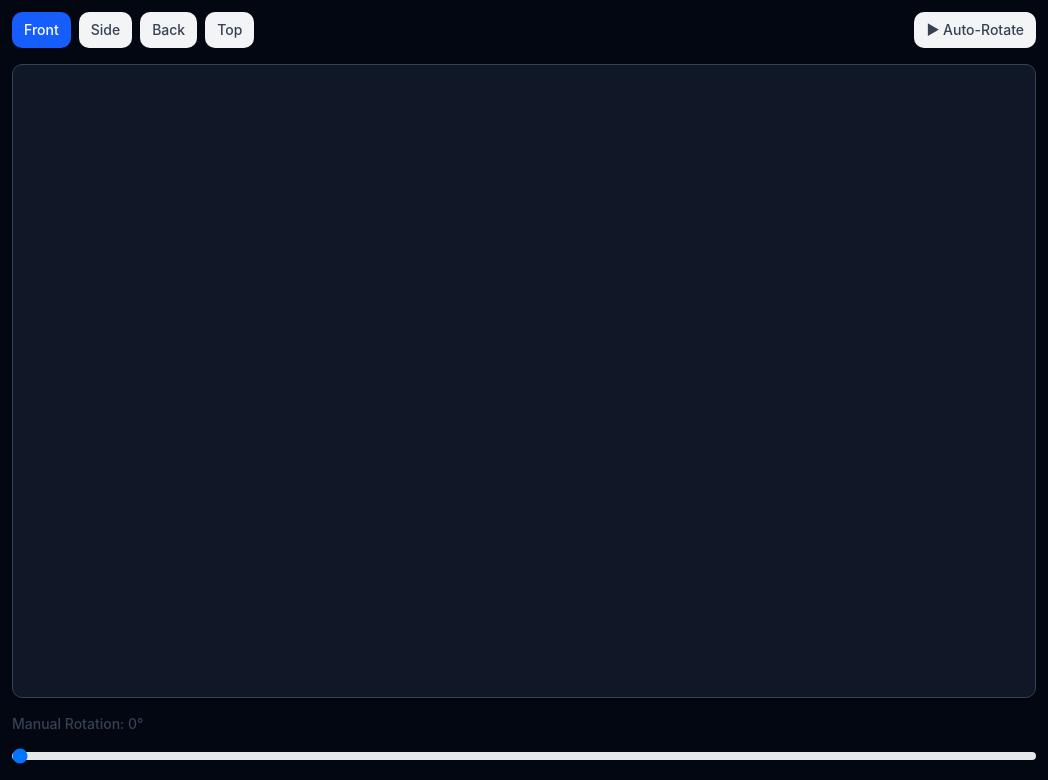
Test: SkeletonVisualization › View Angle Controls › should reset rotation when changing view
// Set rotation
Set the slider to "90" at point(272, 756), box [12, 752, 1036, 760]
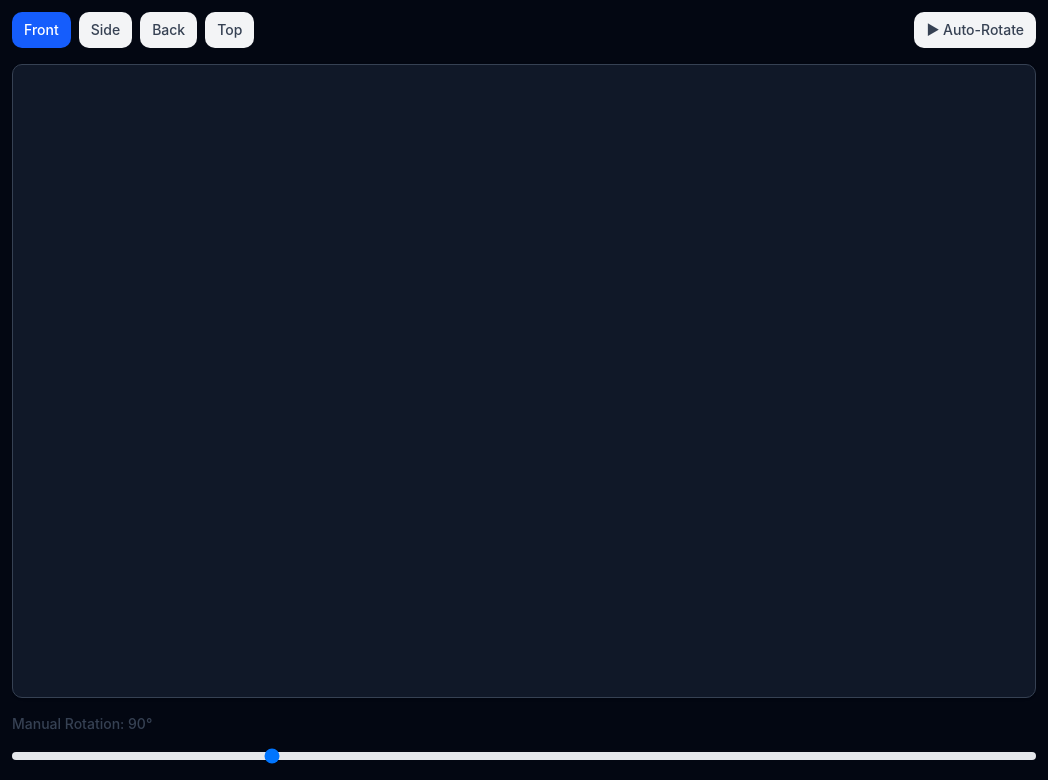
Expected: the text "Manual Rotation: 90°" is shown, [12, 715, 152, 732]
// Change view
Click the button "Side" at point(105, 30), box [79, 12, 132, 48]
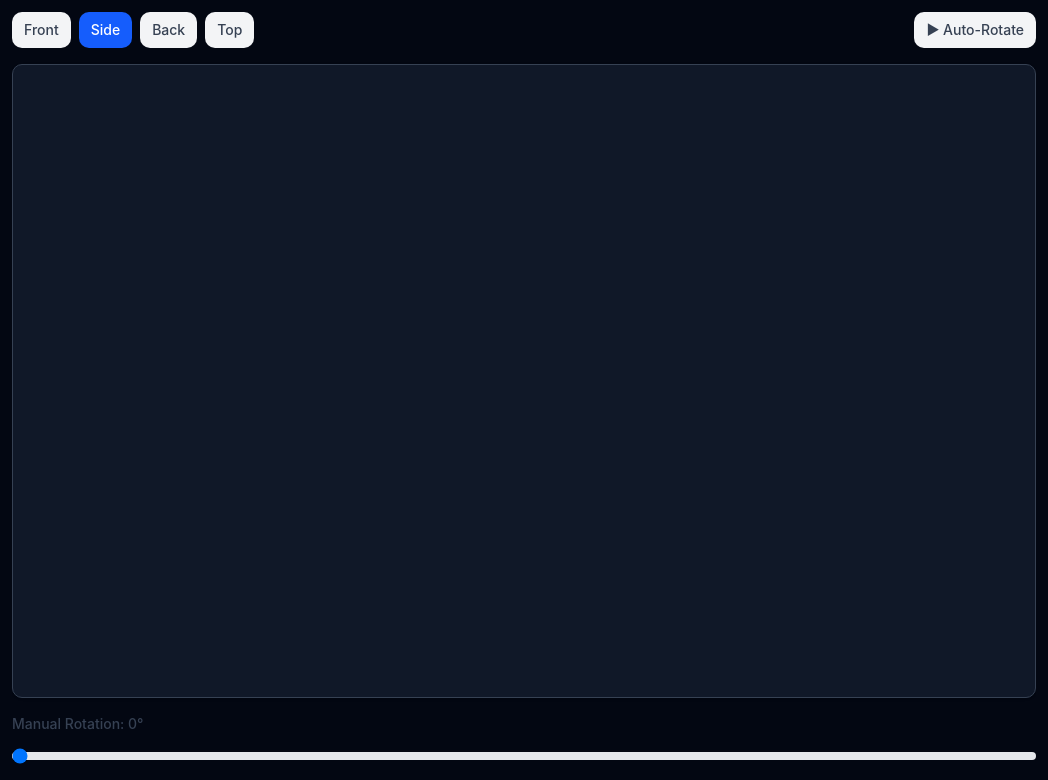
Expected: the text "Manual Rotation: 0°" is shown, [12, 715, 144, 732]
